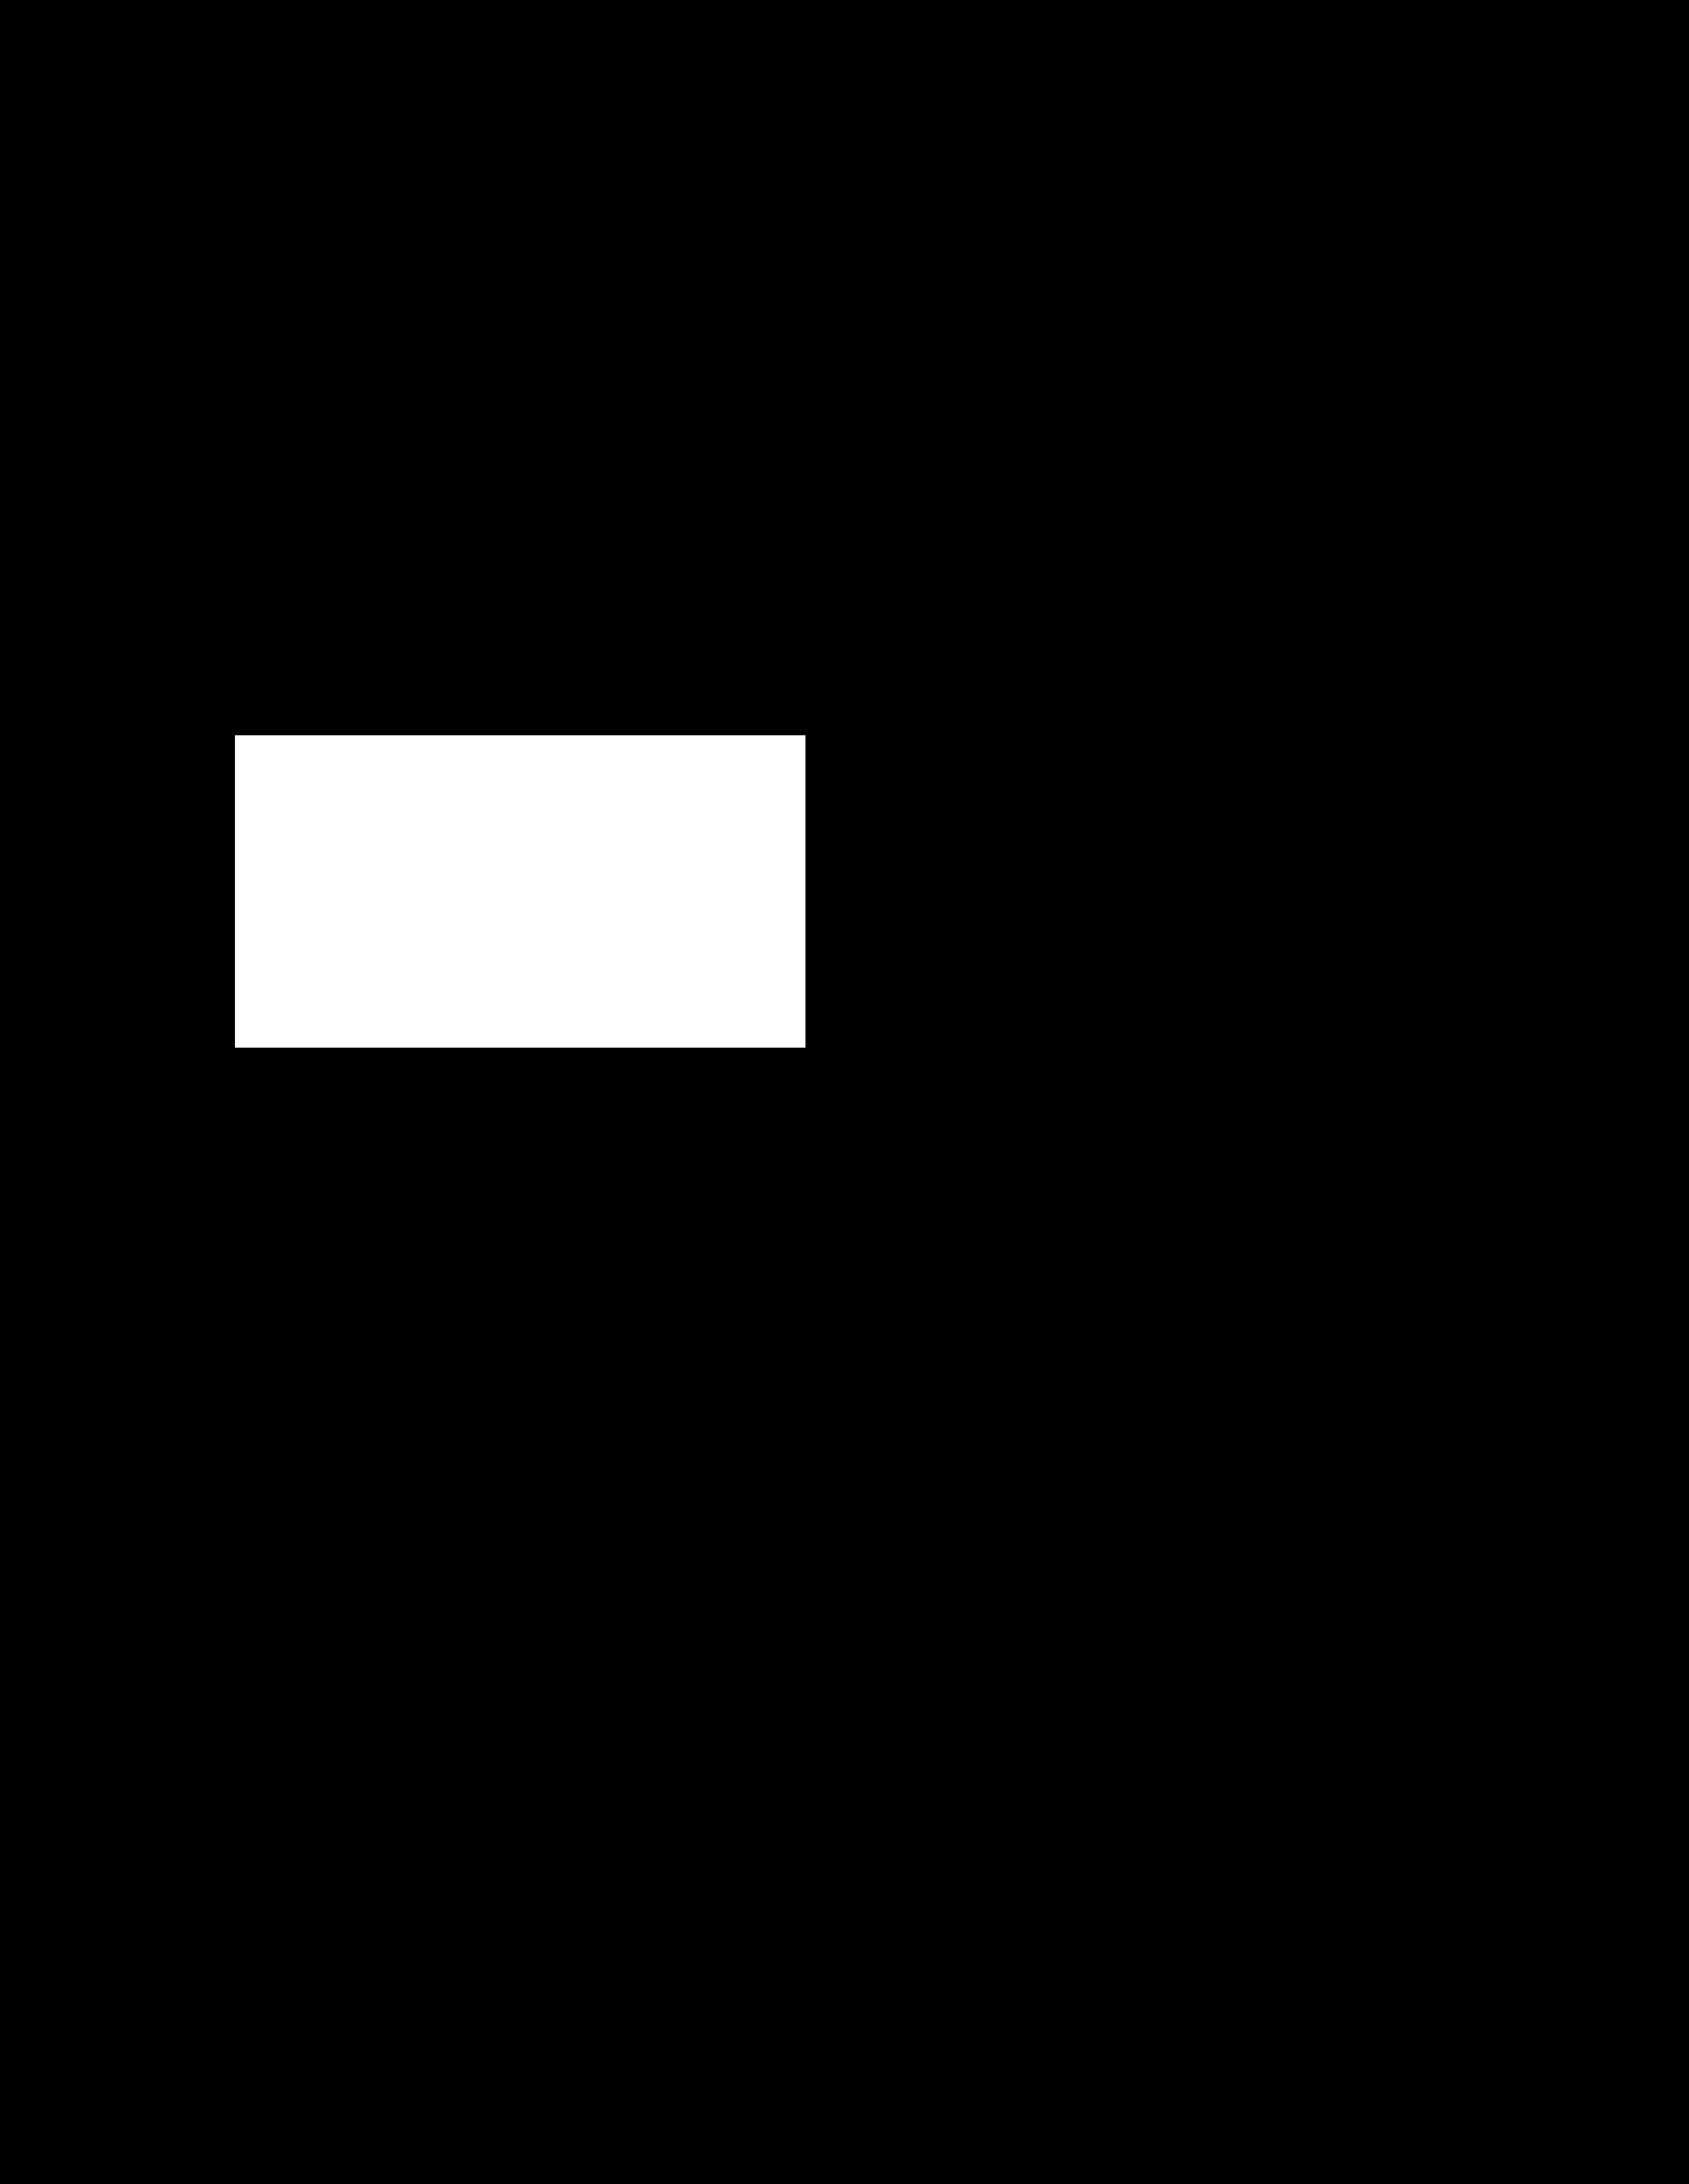table: (236, 736, 805, 1048)
